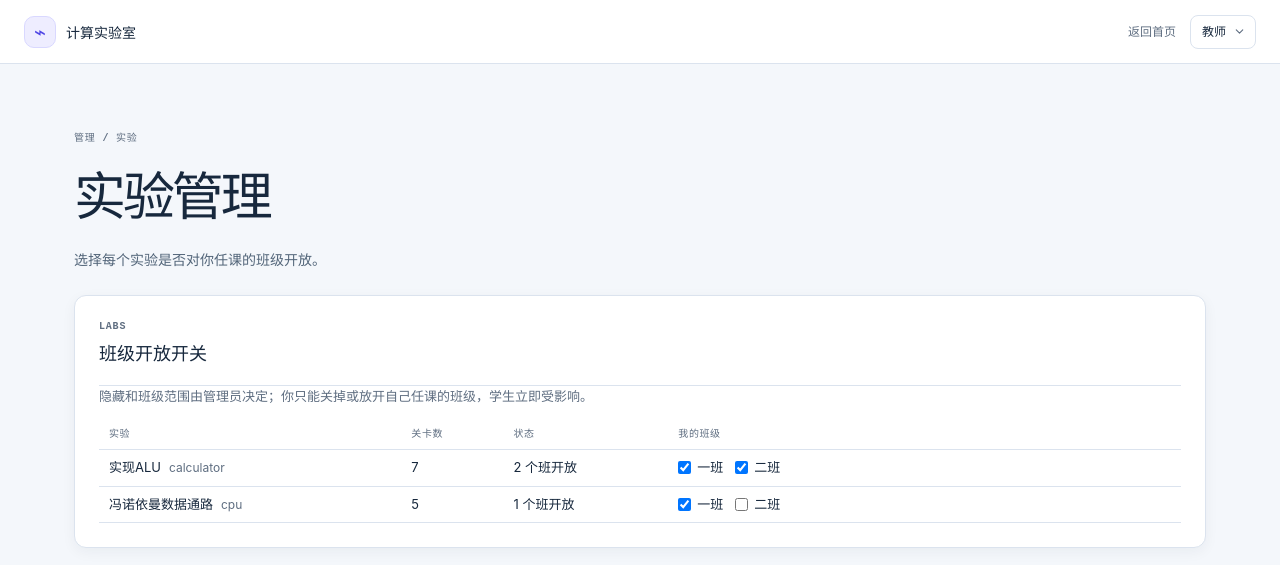
Test: TeacherLabsPage › toggles a lab per own class and keeps admin-blocked classes disabled
Expected: the heading "实验管理" is shown, [74, 165, 270, 228]
Expected: the text "实现ALU" is shown, [109, 459, 161, 475]
Closing one class fires the scoped PUT and flips the local cell.
Click the checkbox labelled "二班" in the row of "实现ALU" at (742, 468), box [735, 461, 748, 474]
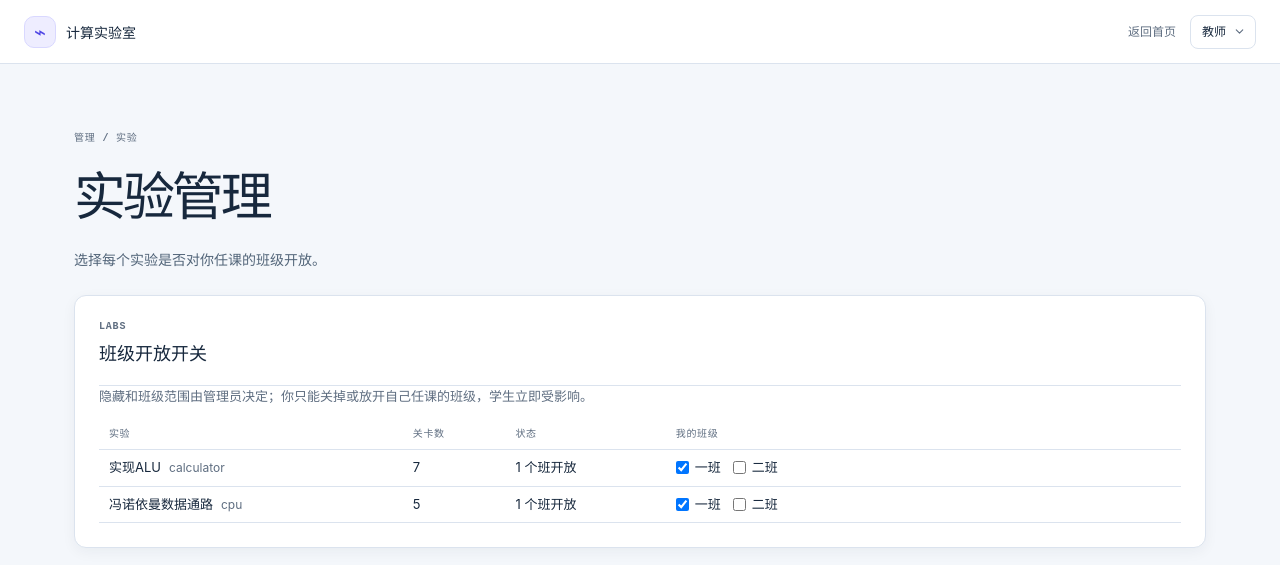
Expected: the text "1 个班开放" in the row of "冯诺依曼数据通路" is shown, [515, 496, 576, 512]
Result: the checkbox labelled "二班" in the row of "实现ALU" is not checked at [733, 461, 746, 474]
Result: the text "1 个班开放" in the row of "实现ALU" is shown at [515, 459, 576, 475]
Click the checkbox labelled "二班" in the row of "冯诺依曼数据通路" at (739, 504), box [733, 498, 746, 511]
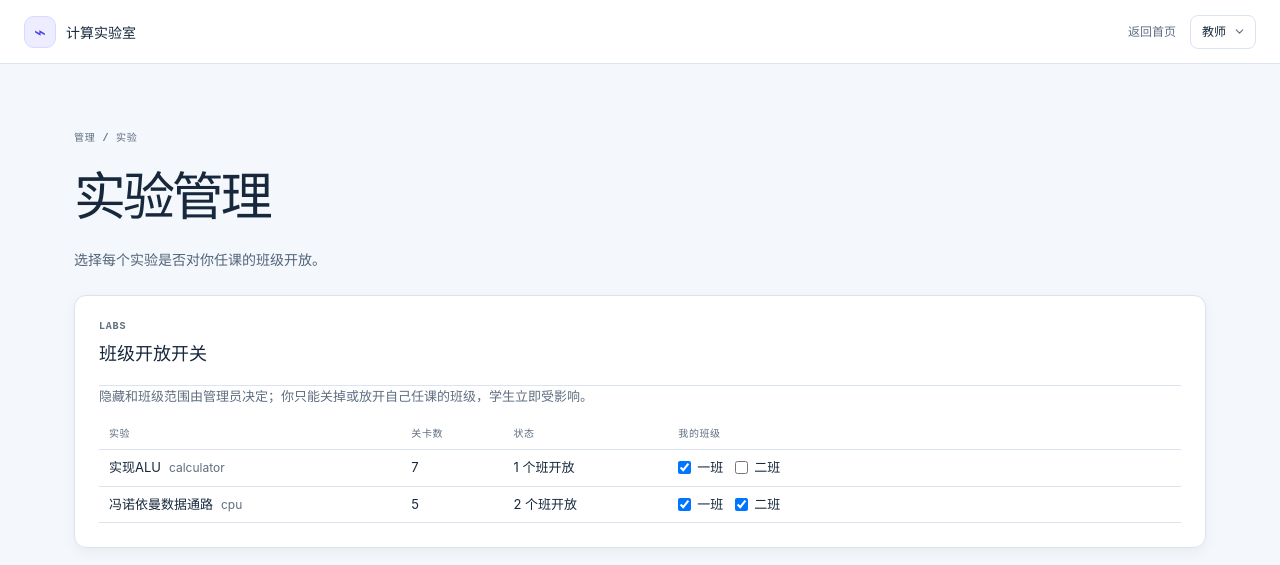
Result: the text "2 个班开放" is shown at [514, 496, 577, 512]
